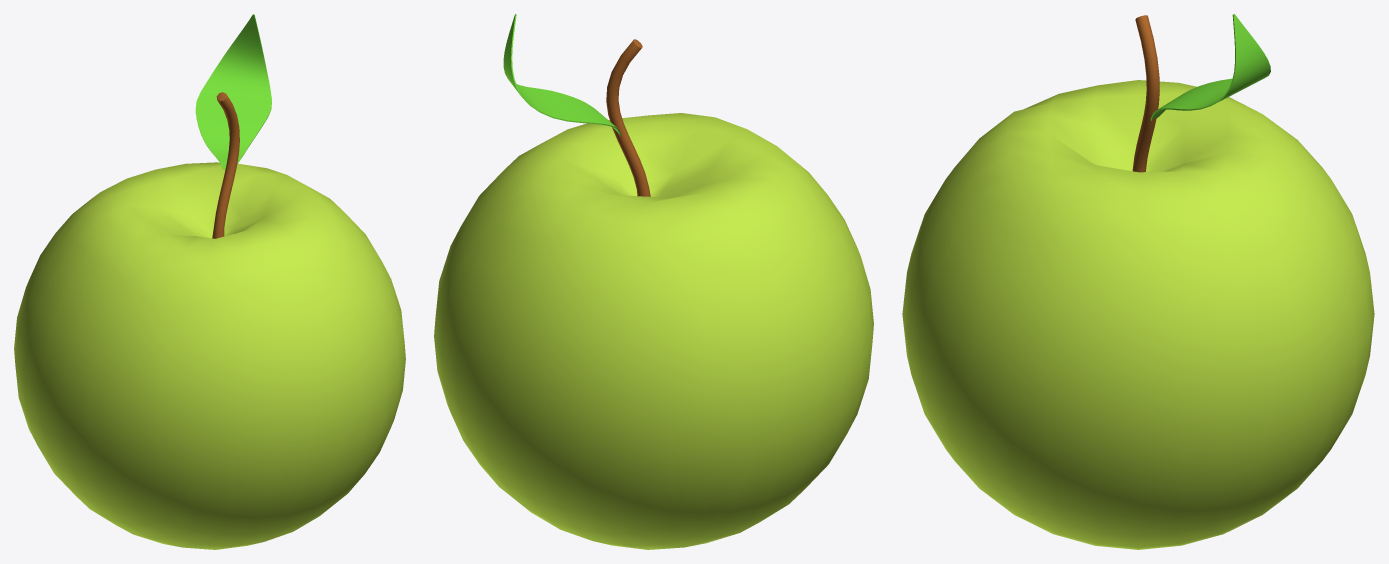
The model's file is Apple_whole.fbx.
3 renders of one model, left to right at view 1: azimuth 30°, elevation 25°; view 2: azimuth 150°, elevation 25°; view 3: azimuth 270°, elevation 25°, orthographic. The views are drawn at different scales.
Parts seen in each view (by area): view 1: Apple_whole; view 2: Apple_whole; view 3: Apple_whole.
Part boxes in pixels (bbox=[...]): Apple_whole: bbox=[14, 14, 405, 549]; Apple_whole: bbox=[434, 14, 873, 549]; Apple_whole: bbox=[902, 14, 1374, 549].
Size of the model in its own units: 396 by 509 by 396.
